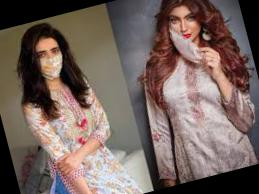mask_weared_incorrect: (169, 9, 200, 47)
with_mask: (36, 41, 64, 71)
